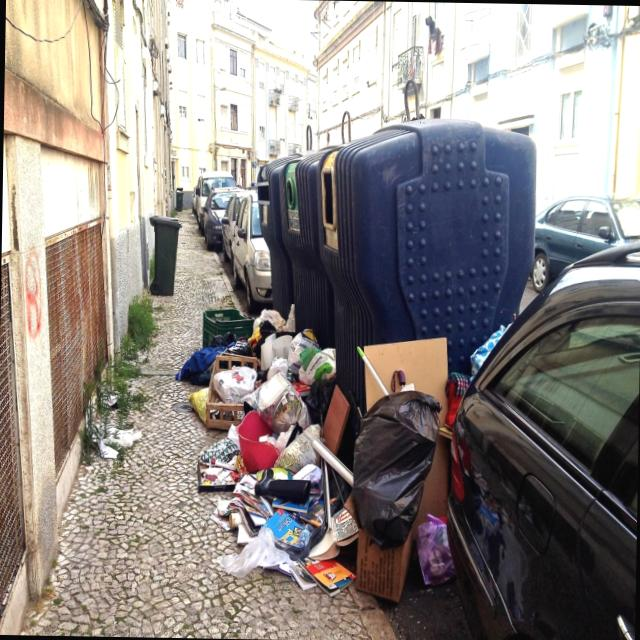garbage: (166, 282, 438, 566)
